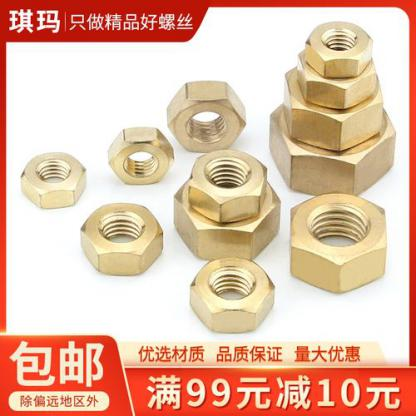FOD: (289, 192, 395, 290), (190, 254, 280, 334), (184, 148, 272, 224), (75, 203, 166, 273), (166, 76, 247, 154), (305, 18, 376, 79), (107, 125, 173, 189), (18, 153, 87, 214)
